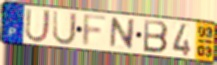4: (171, 22, 193, 57)
B: (142, 18, 170, 55)
F: (80, 13, 110, 49)
N: (108, 17, 137, 51)
U: (24, 7, 53, 44), (52, 10, 78, 47)
